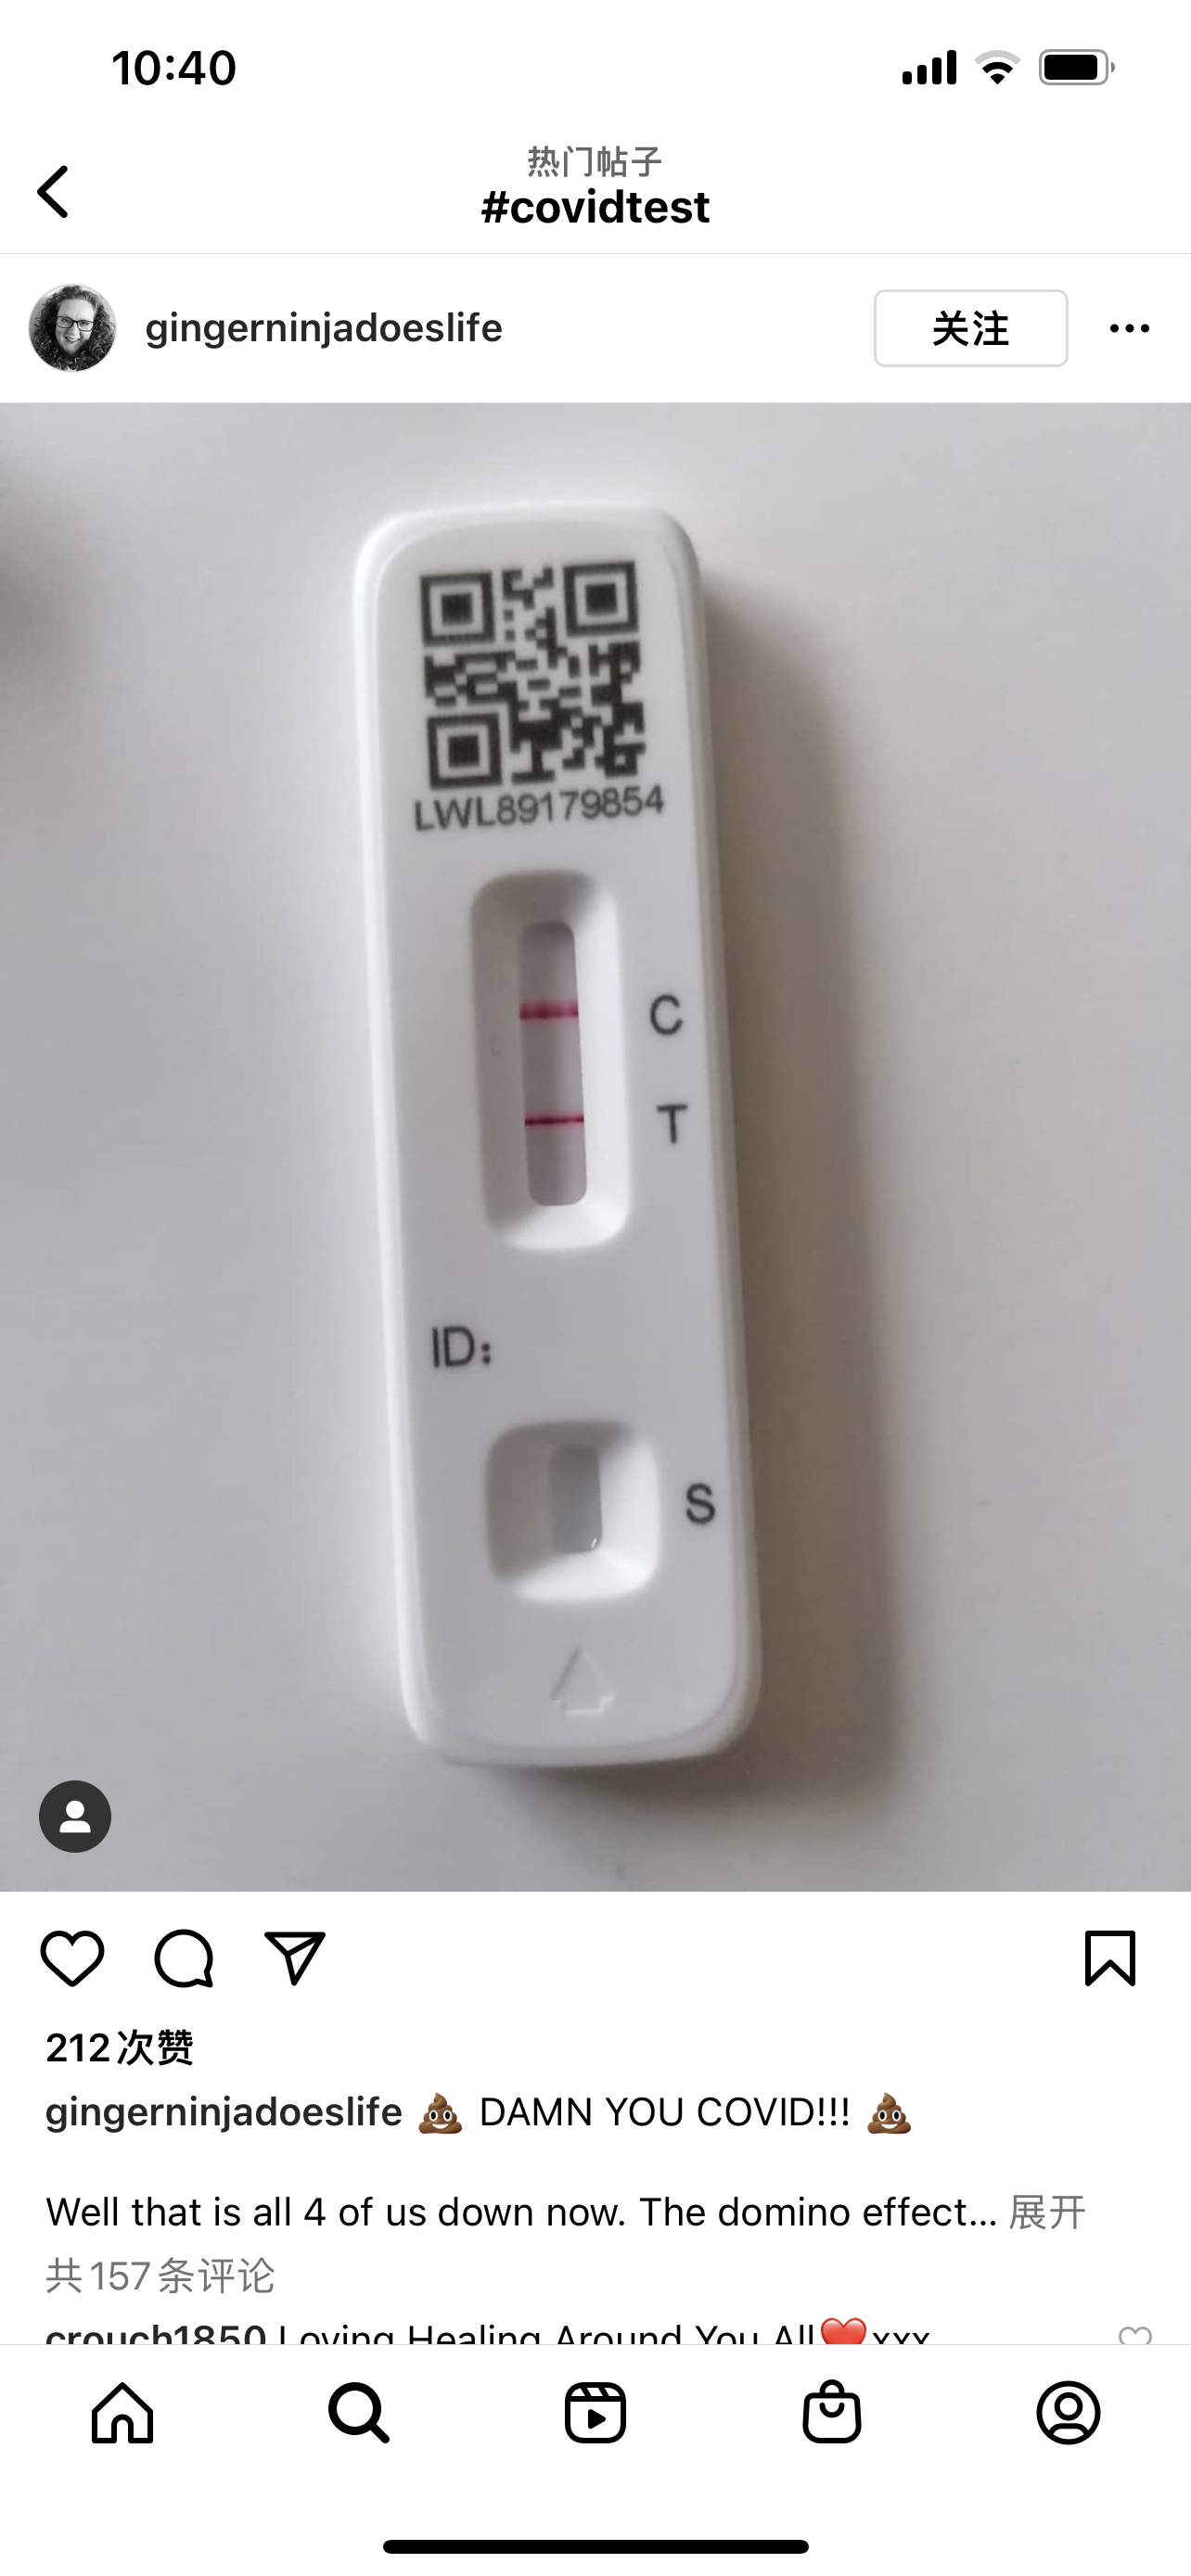positive: (476, 882, 616, 1253)
